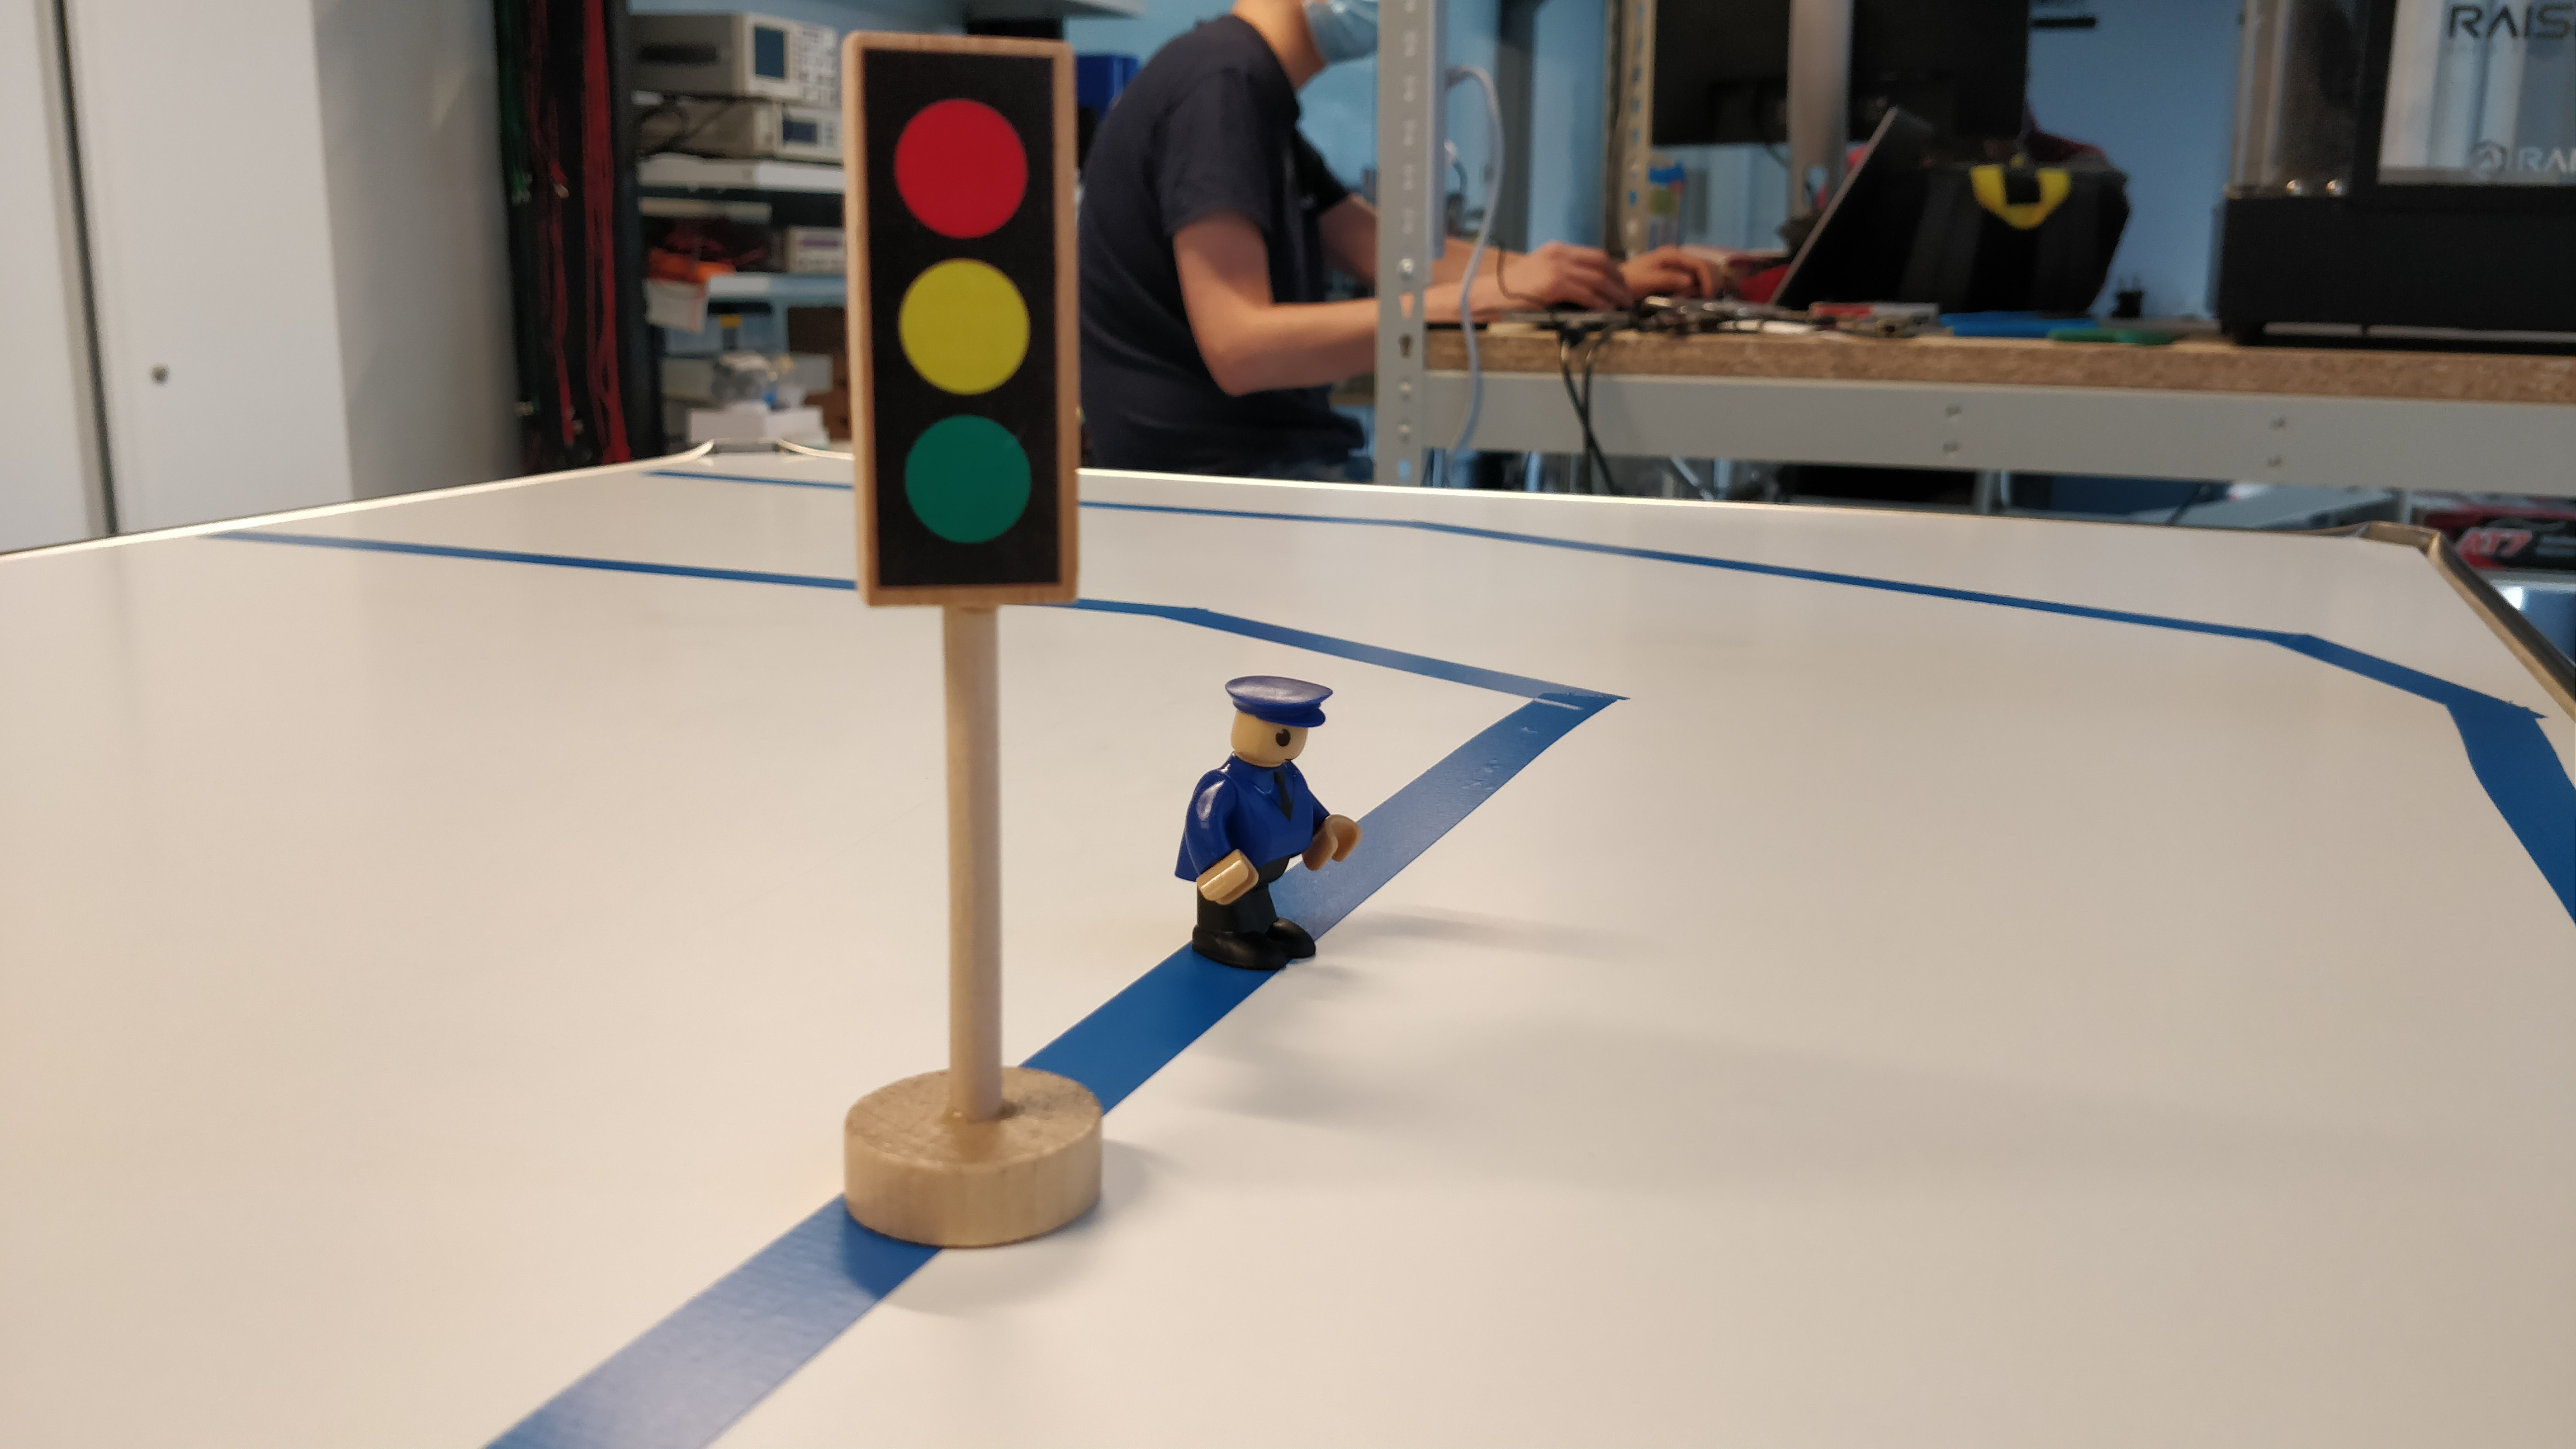Person: (1174, 666, 1367, 973)
Traffic Light: (843, 23, 1087, 611)
